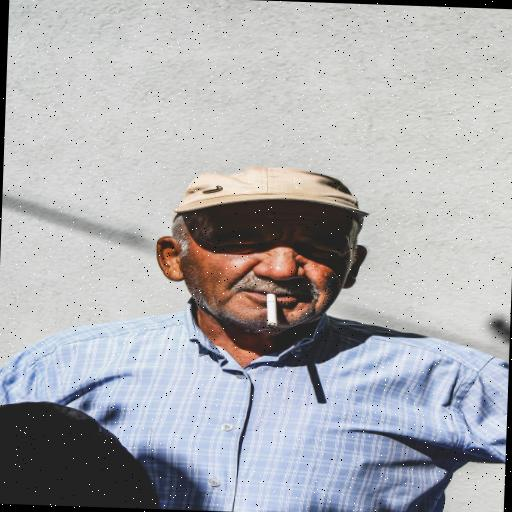merokok: (209, 256, 332, 350)
